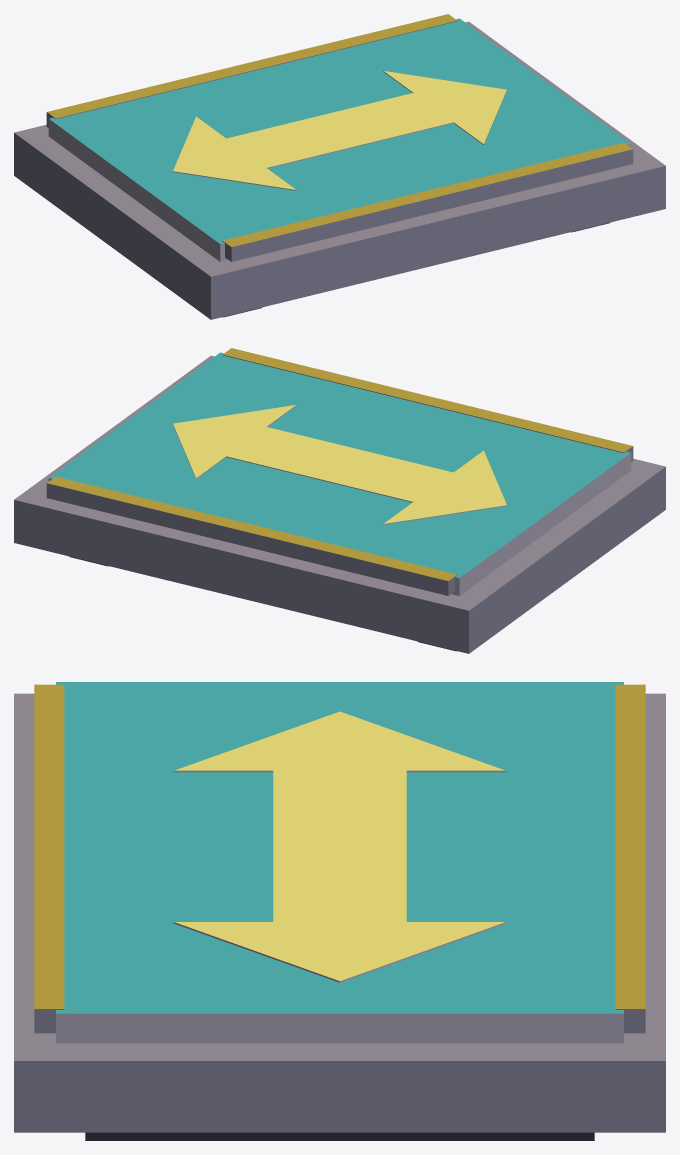
File: star_garden_moving_platform.obj
3 views of the same model, one above another, from view 1: azimuth 30°, elevation 25°; view 2: azimuth 150°, elevation 25°; view 3: azimuth 270°, elevation 25° (orthographic). The views are drawn at different scales.
Parts seen in each view (by area): view 1: star_garden_moving_platform; view 2: star_garden_moving_platform; view 3: star_garden_moving_platform.
Boxes of the visible parts, box(x1,y1,x2,y2) form: star_garden_moving_platform: box(14, 14, 665, 319); star_garden_moving_platform: box(14, 348, 665, 653); star_garden_moving_platform: box(14, 682, 665, 1140).
Bounding box in the file's own units: 12.8 × 2.25 × 9.6.
